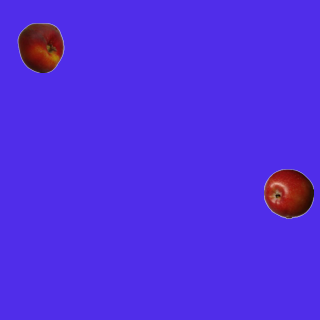Apple Braeburn: (263, 168, 313, 218)
Nectarine Flat: (15, 22, 65, 72)
